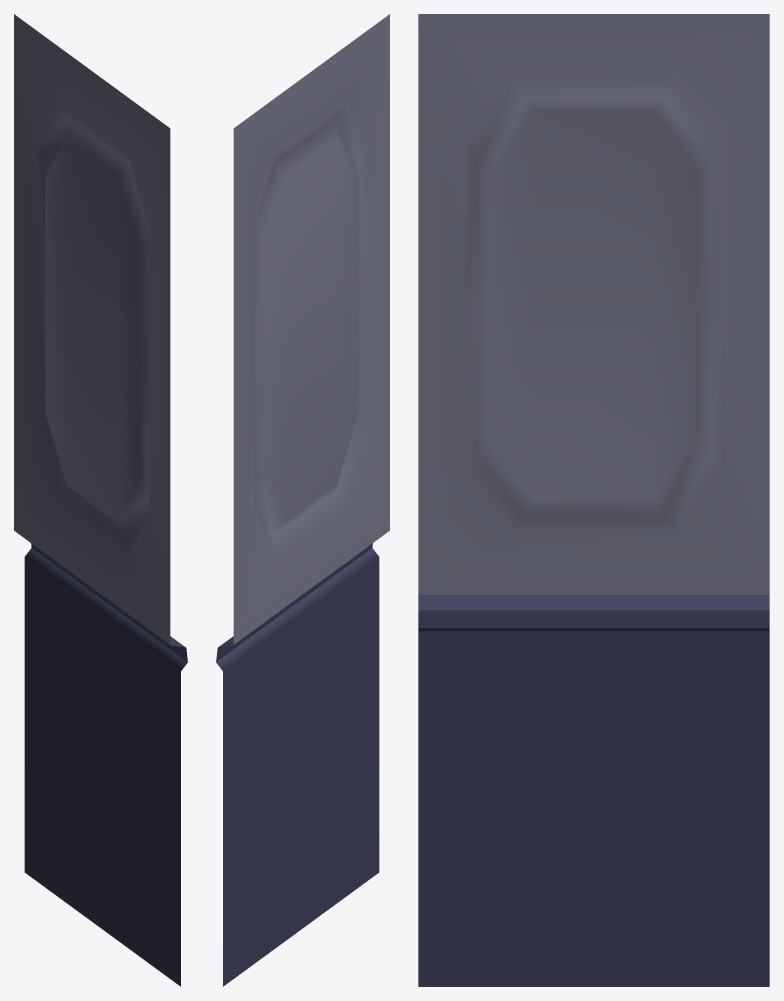
The model's file is SM_WallShort.fbx.
3 renders of one model, left to right at view 1: azimuth 30°, elevation 25°; view 2: azimuth 150°, elevation 25°; view 3: azimuth 270°, elevation 25°, orthographic. The views are drawn at different scales.
Visible parts, largest first — view 1: SM_WallShort; view 2: SM_WallShort; view 3: SM_WallShort.
Boxes of the visible parts, <box> form: SM_WallShort: <box>14,14,187,986</box>; SM_WallShort: <box>216,14,389,986</box>; SM_WallShort: <box>418,14,769,986</box>.
Bounding box in the file's own units: 6.38 × 300 × 98.79.
